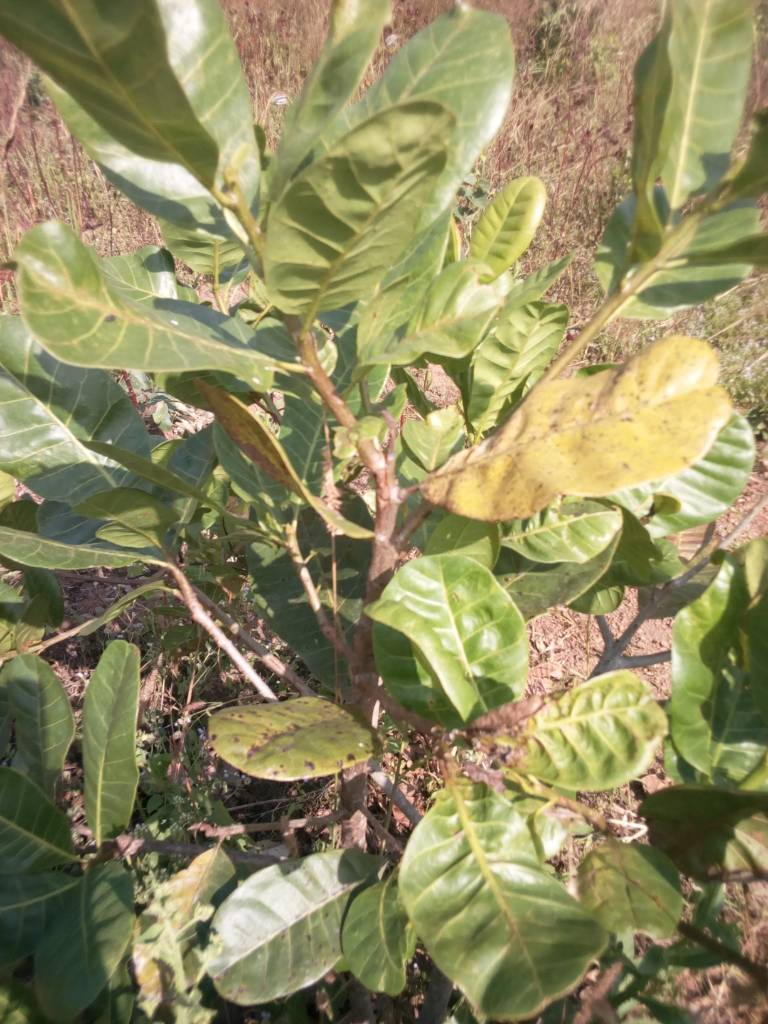Anthracnose: (400, 324, 735, 528), (202, 697, 371, 788)
